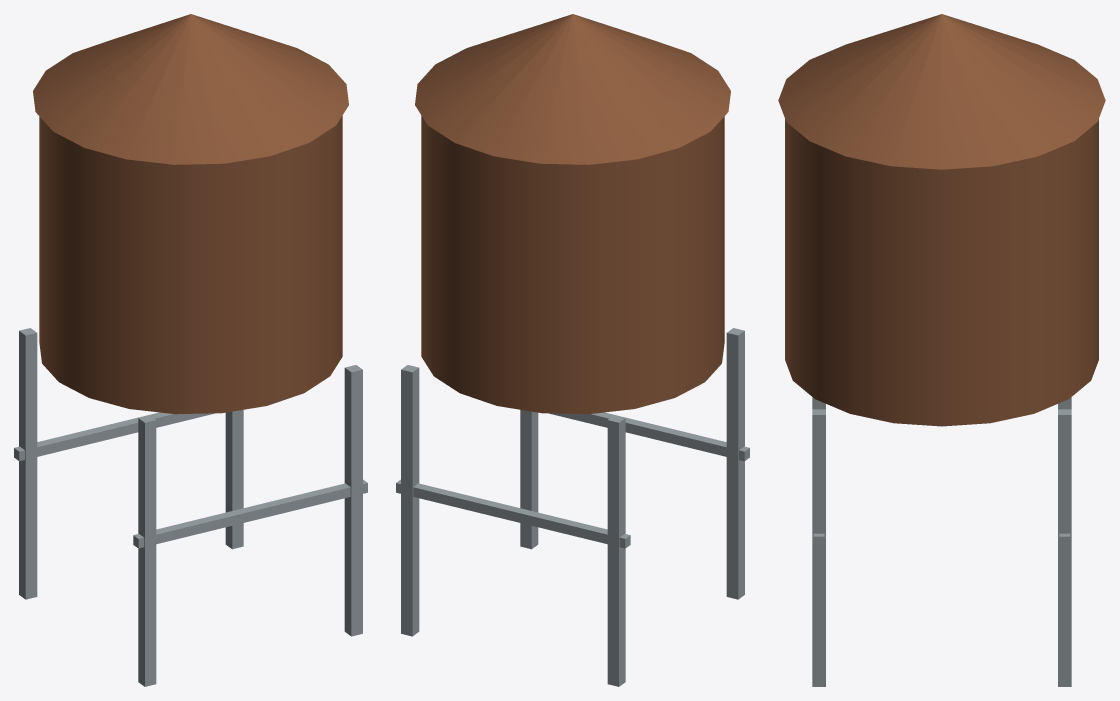
File: roof-clutter-b.glb
3 views of the same model, side by side, from view 1: azimuth 30°, elevation 25°; view 2: azimuth 150°, elevation 25°; view 3: azimuth 270°, elevation 25° (orthographic). The views are drawn at different scales.
Visible parts, largest first — view 1: roof tank, roof steel; view 2: roof tank, roof steel; view 3: roof tank, roof steel.
Boxes of the visible parts, <box> form: roof tank: <box>33,14,348,414</box>; roof steel: <box>14,328,367,686</box>; roof tank: <box>415,14,730,414</box>; roof steel: <box>396,328,749,686</box>; roof tank: <box>778,14,1105,426</box>; roof steel: <box>812,397,1071,686</box>.
Size of the model in its own units: 2.4 by 5 by 2.4.
